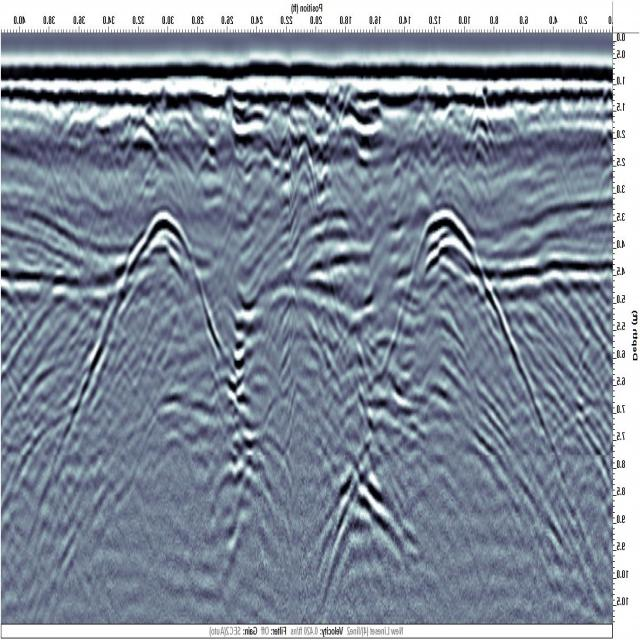hyperbola: (104, 205, 214, 362), (396, 203, 496, 345)
